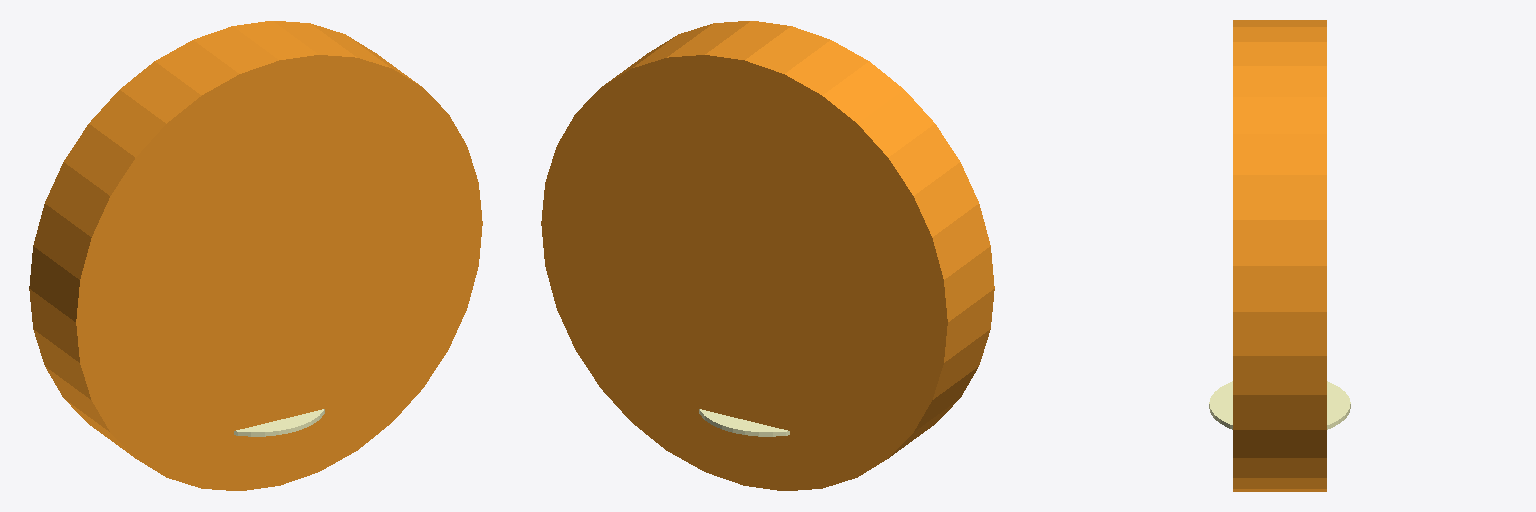
URDF robot description (hoop_pendulum_rotor):
<?xml version="1.0"?>
<robot name="hoop_pendulum_rotor">

  <!-- ========================= -->
  <!-- World -->
  <!-- ========================= -->
  <link name="world"/>

  <!-- ========================= -->
  <!-- Hoop (floating base) -->
  <!-- ========================= -->
  <link name="hoop">
    <inertial>
      <origin xyz="0 0 0" rpy="0 0 0"/>
      <mass value="0.4"/>
      <!-- fullinertia: Ixx Iyy Izz Ixy Ixz Iyz -->
      <inertia
        ixx="0.0016" iyy="0.0011" izz="0.0011"
        ixy="0" ixz="0" iyz="0"/>
    </inertial>

    <!-- Collision: cylinder, axis along +x -->
    <collision>
      <origin xyz="0 0 0" rpy="-1.57079632679 0 0"/> <!-- -90 deg about x -->
      <geometry>
        <cylinder radius="0.10" length="0.04"/> <!-- MuJoCo: size = radius, half-length -->
      </geometry>
    </collision>

    <!-- Visual (same as collision for now) -->
    <visual>
      <origin xyz="0 0 0" rpy="-1.57079632679 0 0"/>
      <geometry>
        <cylinder radius="0.10" length="0.04"/>
      </geometry>
      <material name="orange">
        <color rgba="1 0.65 0.2 0.5"/>
      </material>
    </visual>
  </link>

  <!-- Floating joint (MuJoCo free joint equivalent) -->
  <joint name="hoop_joint" type="floating">
    <parent link="world"/>
    <child link="hoop"/>
    <origin xyz="0 0 0.5" rpy="0 0 0"/>
  </joint>

  <!-- ========================= -->
  <!-- Pendulum body -->
  <!-- ========================= -->
  <link name="pend_body">
    <inertial>
      <origin xyz="0 0 -0.04" rpy="0 0 0"/>
      <mass value="0.45"/>
      <inertia
        ixx="0.00066" iyy="0.00066" izz="0.00063"
        ixy="0" ixz="0" iyz="0"/>
    </inertial>

    <visual>
      <origin xyz="0 0 -0.03" rpy="0 0 0"/>
      <geometry>
        <cylinder radius="0.01" length="0.06"/>
      </geometry>
      <material name="white">
        <color rgba="1 1 1 0.8"/>
      </material>
    </visual>

    <collision>
      <origin xyz="0 0 -0.03" rpy="0 0 0"/>
      <geometry>
        <cylinder radius="0.01" length="0.06"/>
      </geometry>
    </collision>
  </link>

  <joint name="pend" type="revolute">
    <parent link="hoop"/>
    <child link="pend_body"/>
    <origin xyz="0 0 0" rpy="0 0 0"/>
    <axis xyz="0 1 0"/>
    <dynamics damping="0.001"/>
    <limit lower="-3.1416" upper="3.1416" effort="100" velocity="100"/>
  </joint>

  <!-- ========================= -->
  <!-- Rotor body -->
  <!-- ========================= -->
  <link name="rotor_body">
    <inertial>
      <origin xyz="0 0 -0.07" rpy="0 0 0"/>
      <mass value="0.03"/>
      <inertia
        ixx="0.000013" iyy="0.000013" izz="0.000026"
        ixy="0" ixz="0" iyz="0"/>
    </inertial>

    <visual>
      <origin xyz="0 0 0" rpy="0 0 0"/>
      <geometry>
        <cylinder radius="0.03" length="0.002"/>
      </geometry>
      <material name="yellow">
        <color rgba="1 1 0.8 0.3"/>
      </material>
    </visual>

    <collision>
      <origin xyz="0 0 0" rpy="0 0 0"/>
      <geometry>
        <cylinder radius="0.03" length="0.002"/>
      </geometry>
    </collision>
  </link>

  <joint name="rotor" type="revolute">
    <parent link="pend_body"/>
    <child link="rotor_body"/>
    <origin xyz="0 0 -0.07" rpy="0 0 0"/>
    <axis xyz="0 0 1"/>
    <dynamics damping="0.001"/>
    <limit lower="-1e9" upper="1e9" effort="100" velocity="100"/>
  </joint>

</robot>

--- Render facts (derived) ---
The picture shows the robot from 3 angles, left to right: view 1: azimuth 30°, elevation 25°; view 2: azimuth 150°, elevation 25°; view 3: azimuth 270°, elevation 25°; orthographic projection.
Model hoop_pendulum_rotor with 4 links and 3 joints (2 revolute, 1 floating), rooted at world, posed every joint at zero.
Links seen in each view (by area): view 1: hoop, rotor_body; view 2: hoop, rotor_body; view 3: hoop, rotor_body.
Link boxes in pixels (box(x1,y1,x2,y2)): hoop: box(29, 21, 482, 490); rotor_body: box(234, 409, 324, 436); hoop: box(541, 21, 994, 490); rotor_body: box(699, 409, 789, 436); hoop: box(1233, 20, 1326, 491); rotor_body: box(1209, 381, 1350, 429).
Size in the robot's own frame: 0.2 by 0.06 by 0.2 metres.
Geometry: primitives only (box / cylinder / sphere), no mesh files.
